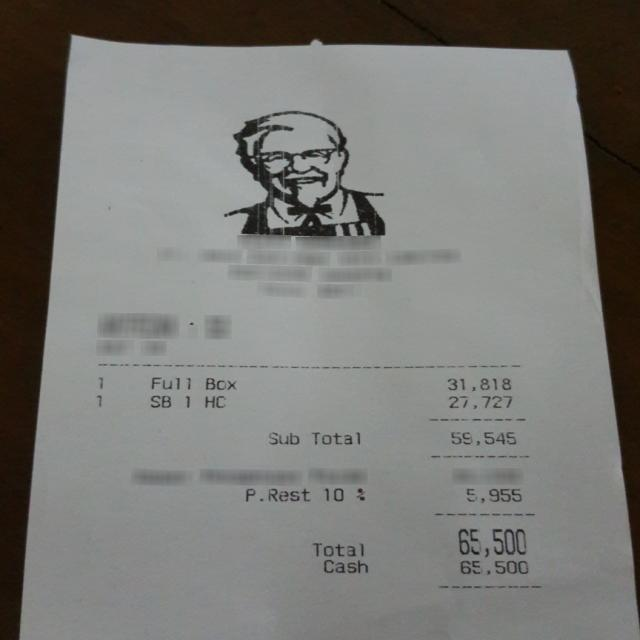kertas: (21, 36, 638, 640)
